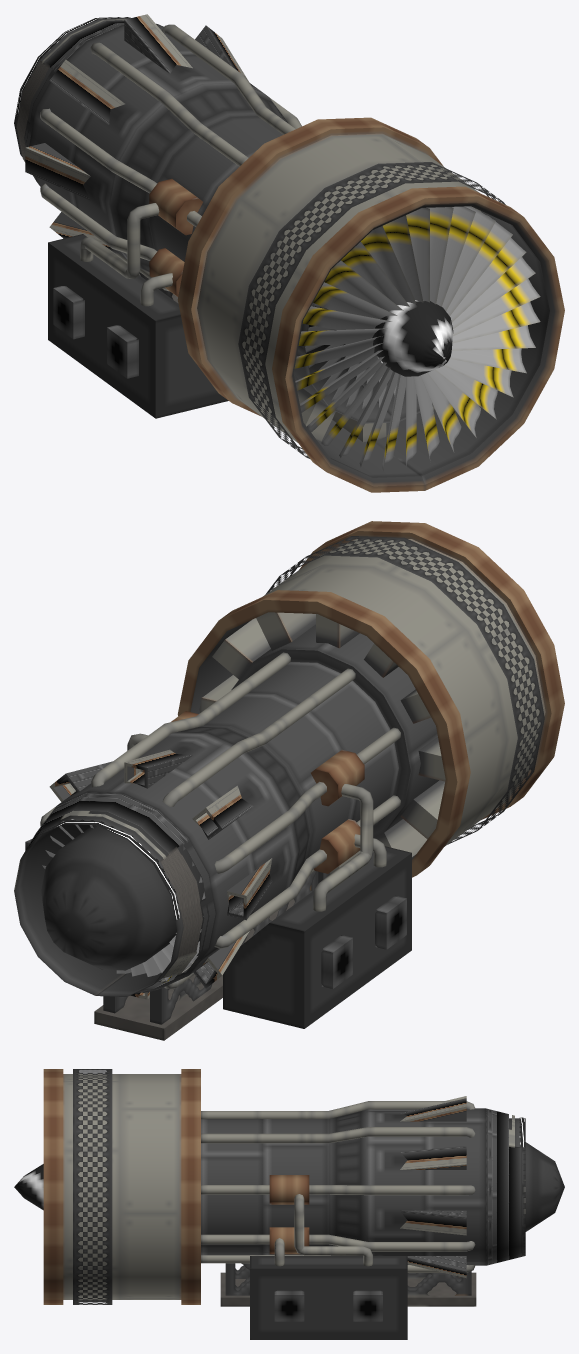
File: turbofan.obj
The picture shows the model from 3 angles, top to bottom: view 1: azimuth 30°, elevation 25°; view 2: azimuth 150°, elevation 25°; view 3: azimuth 270°, elevation 25°; orthographic projection. The views are drawn at different scales.
Parts seen in each view (by area): view 1: Body, Blades, Afterburner; view 2: Body, Afterburner, Blades; view 3: Body, Afterburner, Blades.
Boxes of the visible parts, left/top/right/bottom form: Body: left=14, top=17, right=564, bottom=492; Blades: left=294, top=206, right=540, bottom=470; Afterburner: left=15, top=14, right=249, bottom=254; Body: left=14, top=521, right=564, bottom=1040; Afterburner: left=21, top=749, right=272, bottom=999; Blades: left=42, top=824, right=205, bottom=981; Body: left=43, top=1069, right=564, bottom=1339; Afterburner: left=400, top=1096, right=525, bottom=1278; Blades: left=14, top=1164, right=43, bottom=1210.
Size of the model in its own units: 3 by 3 by 7.
